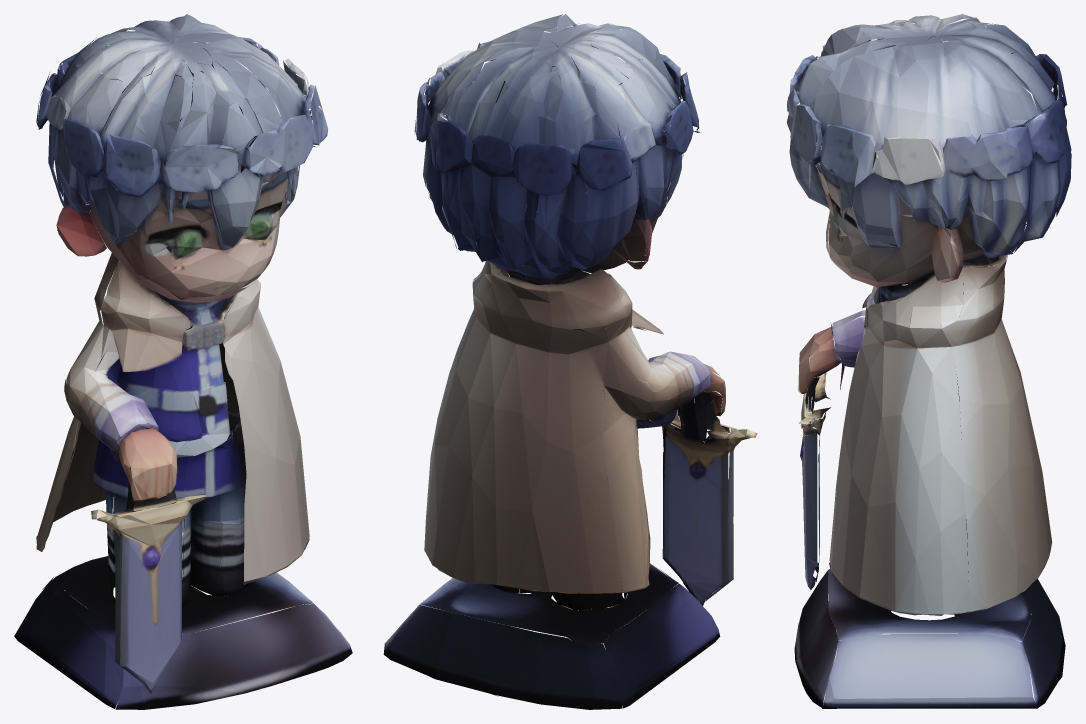
File: chibi-knight-draco.glb
3 views of the same model, side by side, from view 1: azimuth 30°, elevation 25°; view 2: azimuth 150°, elevation 25°; view 3: azimuth 270°, elevation 25° (orthographic).
Parts seen in each view (by area): view 1: ChibiKnight; view 2: ChibiKnight; view 3: ChibiKnight.
Part boxes in pixels (x1,y1,x2,y2): ChibiKnight: (14,14,352,709); ChibiKnight: (383,14,757,709); ChibiKnight: (787,14,1071,708).
Size of the model in its own units: 0.826 by 1.8 by 0.7561.
Materials: 1 (1 with a texture image).
